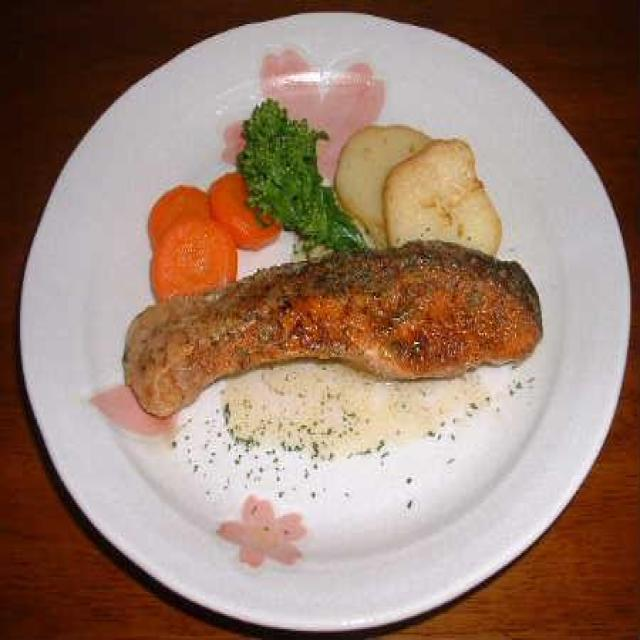熟制海鲜: (102, 222, 552, 436)
